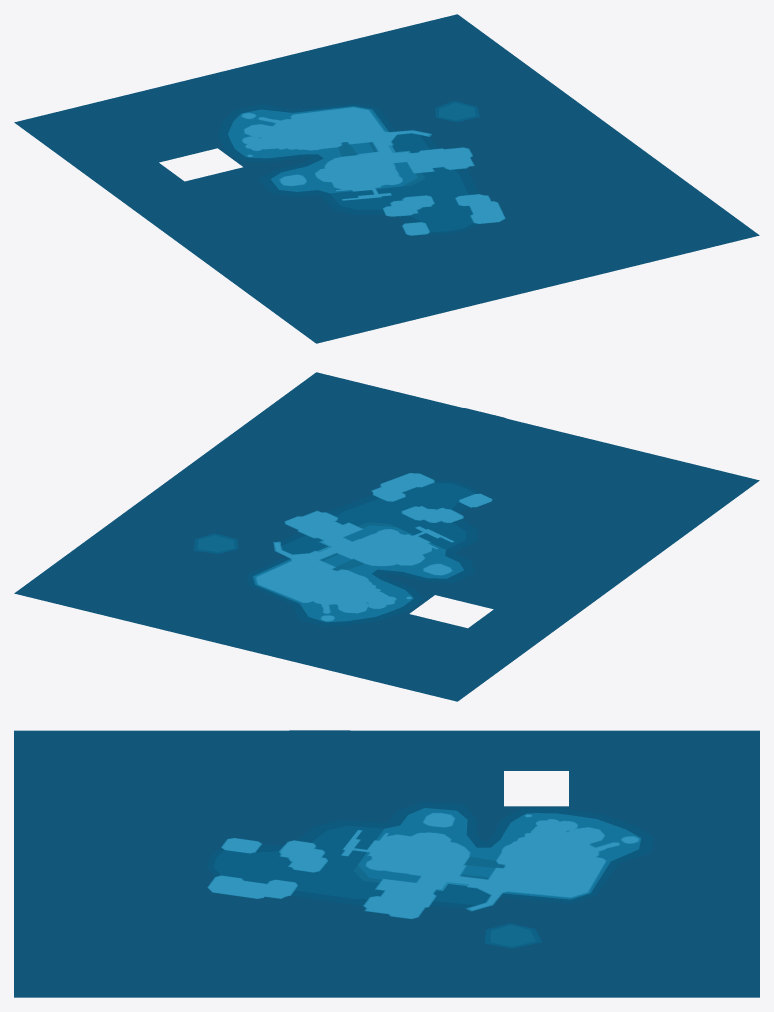
File: kd_connection_world-inner_surface_14_0.glb
3 renders of one model, top to bottom at view 1: azimuth 30°, elevation 25°; view 2: azimuth 150°, elevation 25°; view 3: azimuth 270°, elevation 25°, orthographic. The views are drawn at different scales.
Visible parts, largest first — view 1: kd_connection_world-inner_surface_14_0; view 2: kd_connection_world-inner_surface_14_0; view 3: kd_connection_world-inner_surface_14_0.
Part boxes in pixels (box(x1,y1,x2,y2)): kd_connection_world-inner_surface_14_0: box(14, 14, 759, 343); kd_connection_world-inner_surface_14_0: box(14, 372, 759, 701); kd_connection_world-inner_surface_14_0: box(14, 730, 759, 997).
Size of the model in its own units: 2059 by 2.23 by 2431.
1 material, 1 textured.
